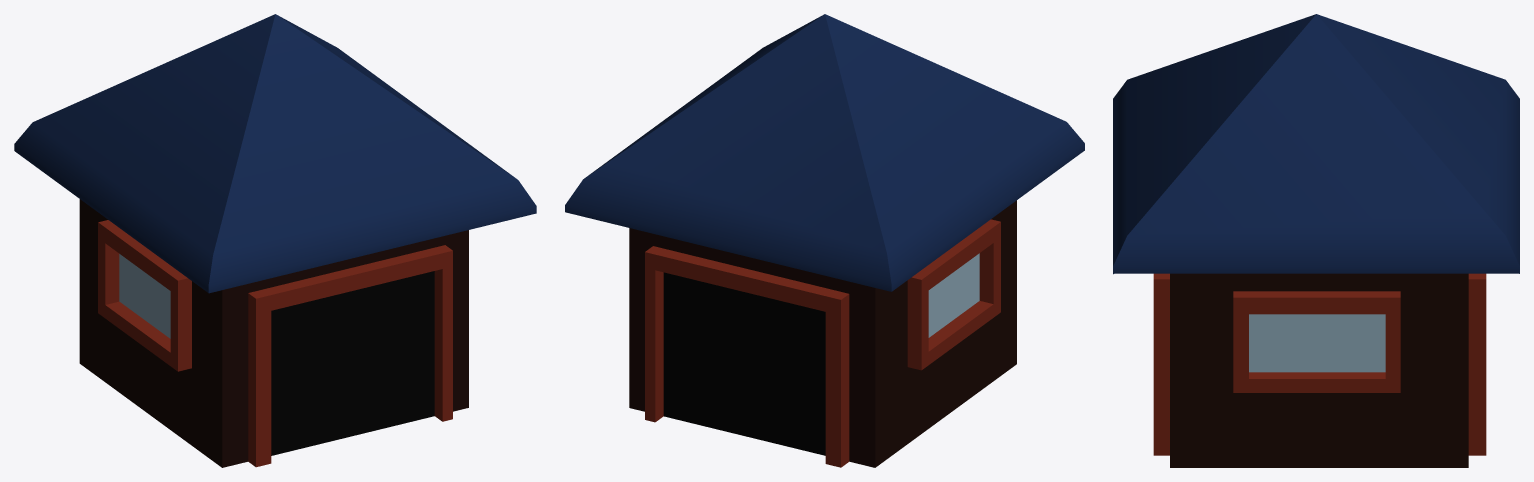
The model's file is UnitBuilding3.FBX.
3 renders of one model, left to right at view 1: azimuth 30°, elevation 25°; view 2: azimuth 150°, elevation 25°; view 3: azimuth 270°, elevation 25°, orthographic. The views are drawn at different scales.
Parts seen in each view (by area): view 1: Pyramid001; view 2: Pyramid001; view 3: Pyramid001.
Part boxes in pixels (left/top/right/bottom): Pyramid001: left=14, top=14, right=536, bottom=467; Pyramid001: left=565, top=14, right=1084, bottom=467; Pyramid001: left=1113, top=14, right=1519, bottom=467.
Bounding box in the file's own units: 262 × 268 × 284.
